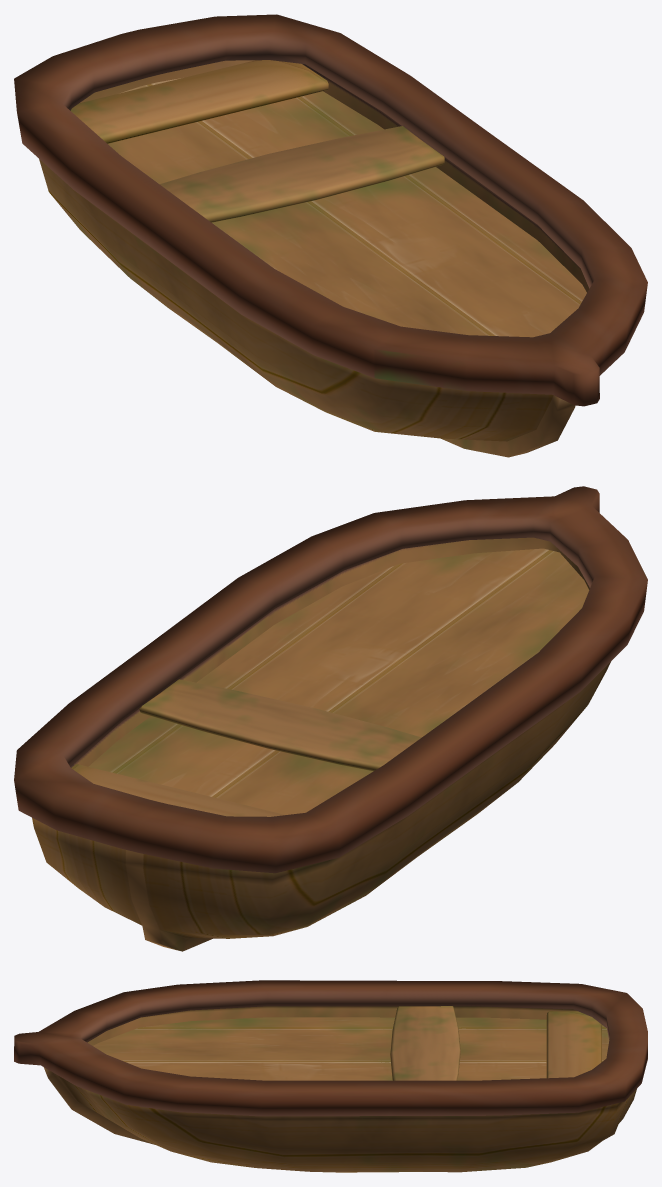
File: ship1.fbx
The picture shows the model from 3 angles, top to bottom: view 1: azimuth 30°, elevation 25°; view 2: azimuth 150°, elevation 25°; view 3: azimuth 270°, elevation 25°; orthographic projection. The views are drawn at different scales.
Parts seen in each view (by area): view 1: ship1_2, ship1_1, ship1_5, ship1_4; view 2: ship1_2, ship1_1, ship1_5, ship1_4; view 3: ship1_2, ship1_1, ship1_5, ship1_4.
Boxes of the visible parts, x1=… form: ship1_2: x1=14, y1=14, x2=647, y2=457; ship1_1: x1=107, y1=78, x2=586, y2=337; ship1_5: x1=160, y1=126, x2=444, y2=222; ship1_4: x1=70, y1=60, x2=328, y2=143; ship1_2: x1=14, y1=486, x2=647, y2=951; ship1_1: x1=88, y1=548, x2=589, y2=814; ship1_5: x1=139, y1=679, x2=421, y2=771; ship1_4: x1=71, y1=764, x2=284, y2=816; ship1_2: x1=14, y1=980, x2=647, y2=1172; ship1_1: x1=93, y1=1017, x2=609, y2=1080; ship1_5: x1=390, y1=1006, x2=460, y2=1080; ship1_4: x1=546, y1=1011, x2=601, y2=1078.
Size of the model in its own units: 266 by 133 by 614.
1 material, 1 textured.
